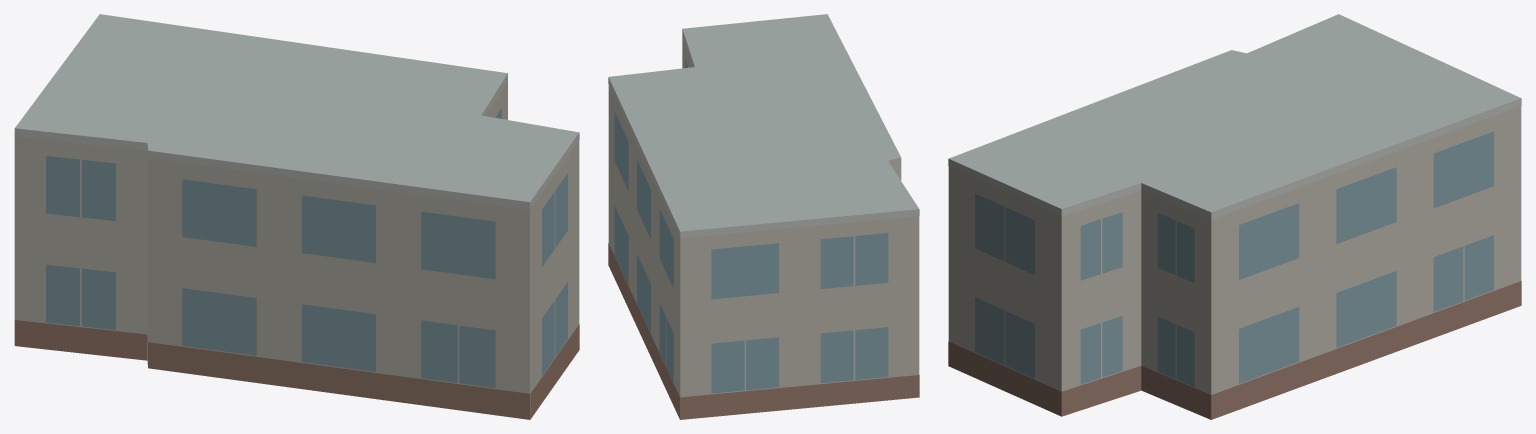
File: survey-upis-32629302.glb
3 views of the same model, side by side, from view 1: azimuth 30°, elevation 25°; view 2: azimuth 150°, elevation 25°; view 3: azimuth 270°, elevation 25° (orthographic). The views are drawn at different scales.
Parts seen in each view (by area): view 1: survey-upis-32629302.tmp; view 2: survey-upis-32629302.tmp; view 3: survey-upis-32629302.tmp.
Boxes of the visible parts, bbox=[...] form: survey-upis-32629302.tmp: bbox=[14, 14, 579, 419]; survey-upis-32629302.tmp: bbox=[608, 14, 919, 419]; survey-upis-32629302.tmp: bbox=[948, 14, 1521, 419].
Size of the model in its own units: 13.95 by 6.8 by 17.02.
